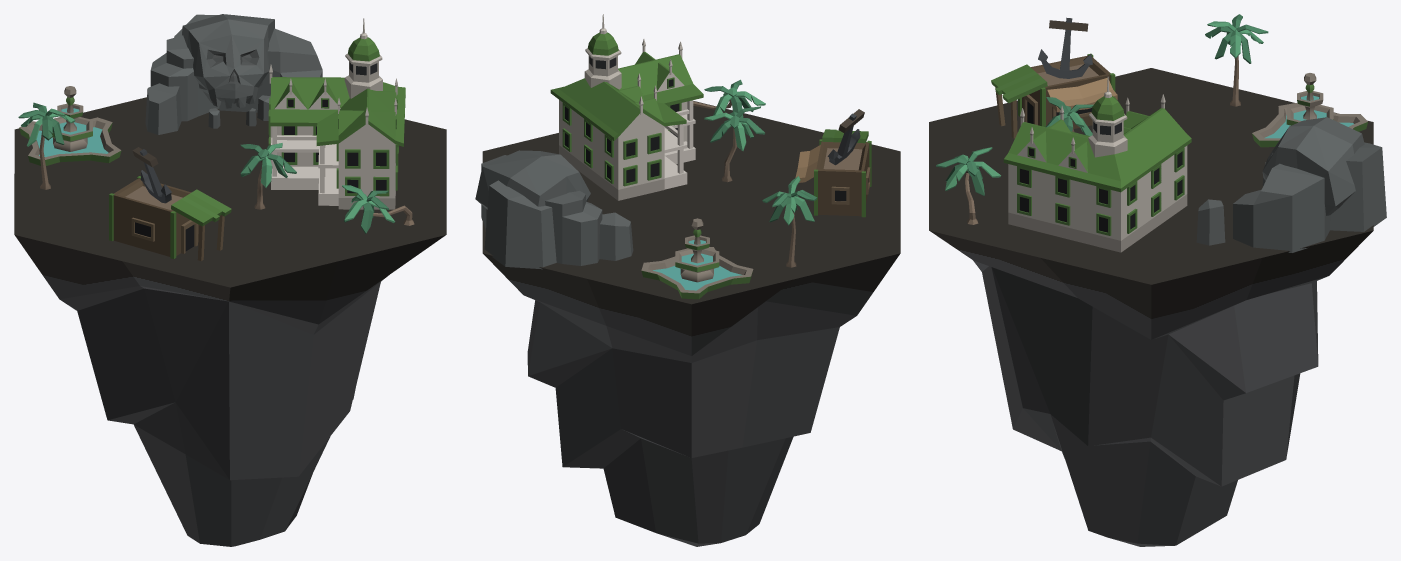
File: hextile.fbx
3 views of the same model, side by side, from view 1: azimuth 30°, elevation 25°; view 2: azimuth 150°, elevation 25°; view 3: azimuth 270°, elevation 25° (orthographic). The views are drawn at different scales.
Visible parts, largest first — view 1: SM_Tile_Hex_FloatingIsland_01, SM_Bld_Pirate_Mansion_01, SM_Env_Pirate_SkullRock_01, SM_Bld_Pirate_Shack_01, SM_Bld_Pirates_Fountain_01, SM_Env_Pirate_Palm_01, SM_Env_Pirate_Palm_03, SM_Env_Pirate_Palm_02; view 2: SM_Tile_Hex_FloatingIsland_01, SM_Bld_Pirate_Mansion_01, SM_Env_Pirate_SkullRock_01, SM_Bld_Pirate_Shack_01, SM_Bld_Pirates_Fountain_01, SM_Env_Pirate_Palm_01, SM_Env_Pirate_Palm_02, SM_Env_Pirate_Palm_03; view 3: SM_Tile_Hex_FloatingIsland_01, SM_Bld_Pirate_Mansion_01, SM_Env_Pirate_SkullRock_01, SM_Bld_Pirate_Shack_01, SM_Bld_Pirates_Fountain_01, SM_Env_Pirate_Palm_01, SM_Env_Pirate_Palm_03, SM_Env_Pirate_Palm_02.
Part boxes in pixels (x1,y1,x2,y2): SM_Tile_Hex_FloatingIsland_01: [14, 97, 446, 546]; SM_Bld_Pirate_Mansion_01: [268, 18, 405, 209]; SM_Env_Pirate_SkullRock_01: [145, 14, 322, 134]; SM_Bld_Pirate_Shack_01: [109, 147, 231, 261]; SM_Bld_Pirates_Fountain_01: [19, 86, 121, 165]; SM_Env_Pirate_Palm_01: [18, 102, 75, 189]; SM_Env_Pirate_Palm_03: [342, 185, 414, 233]; SM_Env_Pirate_Palm_02: [240, 143, 296, 209]; SM_Tile_Hex_FloatingIsland_01: [482, 101, 900, 546]; SM_Bld_Pirate_Mansion_01: [550, 14, 703, 200]; SM_Env_Pirate_SkullRock_01: [475, 150, 633, 269]; SM_Bld_Pirate_Shack_01: [795, 109, 871, 217]; SM_Bld_Pirates_Fountain_01: [641, 218, 753, 299]; SM_Env_Pirate_Palm_01: [762, 176, 817, 267]; SM_Env_Pirate_Palm_02: [704, 106, 764, 182]; SM_Env_Pirate_Palm_03: [693, 79, 765, 120]; SM_Tile_Hex_FloatingIsland_01: [929, 68, 1373, 546]; SM_Bld_Pirate_Mansion_01: [1003, 76, 1191, 252]; SM_Env_Pirate_SkullRock_01: [1196, 117, 1386, 252]; SM_Bld_Pirate_Shack_01: [991, 17, 1117, 138]; SM_Bld_Pirates_Fountain_01: [1252, 73, 1367, 147]; SM_Env_Pirate_Palm_01: [1205, 14, 1268, 106]; SM_Env_Pirate_Palm_03: [936, 147, 1000, 224]; SM_Env_Pirate_Palm_02: [1045, 97, 1093, 136].
Size of what is drawn, in the model's own units: 577 by 654 by 515.
1 material, 1 textured.
